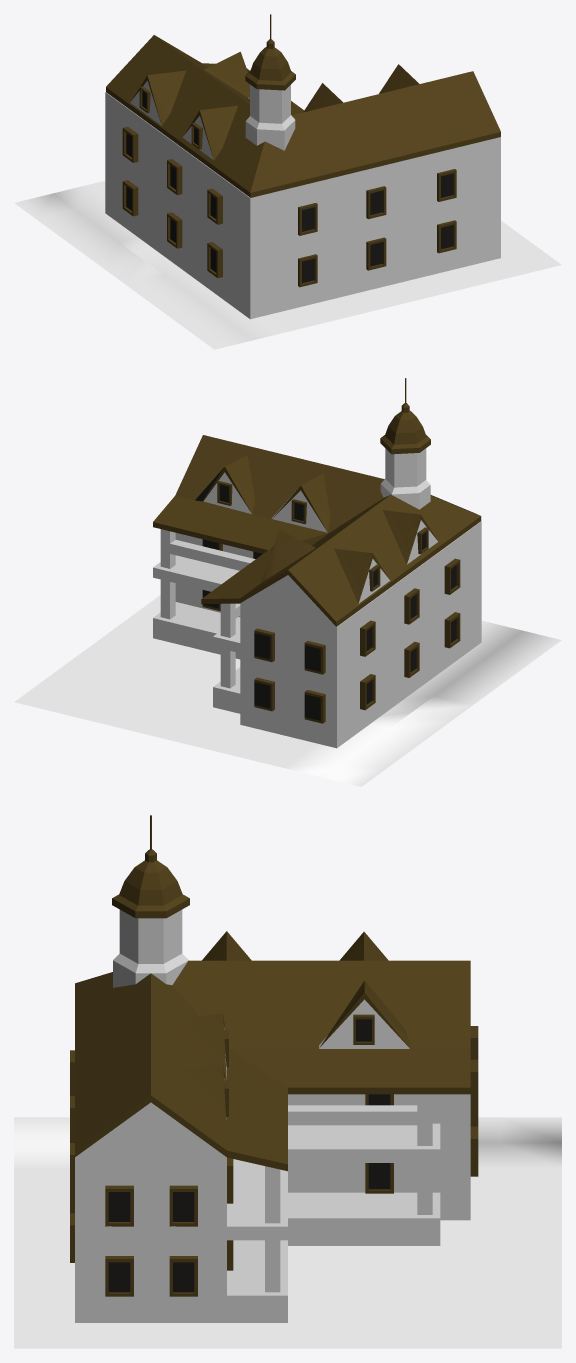
Rendered from House1.fbx.
The picture shows the model from 3 angles, top to bottom: view 1: azimuth 30°, elevation 25°; view 2: azimuth 150°, elevation 25°; view 3: azimuth 270°, elevation 25°; orthographic projection. The views are drawn at different scales.
Parts seen in each view (by area): view 1: Building, Plane, Roof_1, Other_roof, Tower, Upper_Window__3_, Upper_Window__4_, Upper_Window, polySurface1 (×2), Upper_Window__2_, Upper_Window__1_; view 2: Plane, Building, Other_roof, Roof_1, Tower, Posts, Floor, Balcon, Upper_Window__2_, Upper_Window__1_, Upper_Window__3_, Upper_Window__4_ (+1 smaller); view 3: Plane, Other_roof, Building, Roof_1, Floor, Balcon, Tower, Posts, Upper_Window, polySurface2 (×4), Upper_Window__2_, Upper_Window__1_ (+2 smaller).
Part boxes in pixels (bbox=[...]): Building: bbox=[105, 92, 500, 319]; Plane: bbox=[14, 181, 561, 349]; Roof_1: bbox=[250, 71, 500, 197]; Other_roof: bbox=[106, 35, 303, 197]; Tower: bbox=[245, 14, 295, 150]; Upper_Window__3_: bbox=[130, 70, 185, 125]; Upper_Window__4_: bbox=[182, 105, 237, 160]; Upper_Window: bbox=[204, 51, 249, 98]; polySurface1 (×2): bbox=[122, 126, 138, 216]; Upper_Window__2_: bbox=[379, 64, 419, 93]; Upper_Window__1_: bbox=[303, 83, 342, 112]; Plane: bbox=[14, 595, 561, 786]; Building: bbox=[175, 521, 481, 748]; Other_roof: bbox=[201, 494, 480, 626]; Roof_1: bbox=[153, 435, 481, 553]; Tower: bbox=[380, 378, 430, 509]; Posts: bbox=[160, 529, 255, 688]; Floor: bbox=[153, 602, 240, 713]; Balcon: bbox=[153, 555, 240, 652]; Upper_Window__2_: bbox=[195, 455, 255, 514]; Upper_Window__1_: bbox=[271, 473, 330, 532]; Upper_Window__3_: bbox=[334, 548, 390, 603]; Upper_Window__4_: bbox=[382, 510, 438, 564]; Plane: bbox=[14, 1117, 561, 1348]; Other_roof: bbox=[172, 960, 470, 1094]; Building: bbox=[75, 1094, 470, 1322]; Roof_1: bbox=[75, 972, 287, 1171]; Floor: bbox=[227, 1192, 440, 1322]; Balcon: bbox=[227, 1123, 440, 1240]; Tower: bbox=[112, 815, 189, 987]; Posts: bbox=[265, 1094, 432, 1292]; Upper_Window: bbox=[319, 981, 410, 1048]; polySurface2 (×4): bbox=[108, 1192, 194, 1292]; Upper_Window__2_: bbox=[161, 1064, 226, 1136]; Upper_Window__1_: bbox=[161, 1013, 226, 1079].
Bounding box in the file's own units: 1800 × 1350 × 1800.
5 materials, 1 textured.
